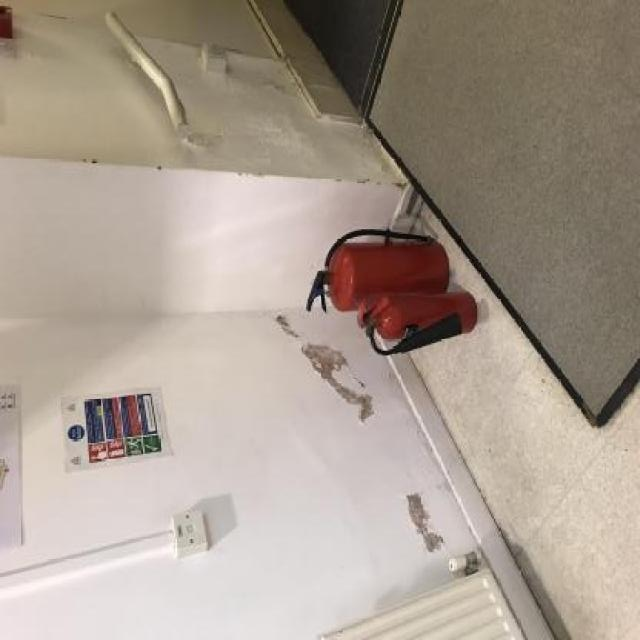fire extinguisher: (305, 226, 449, 314), (357, 291, 477, 355)
